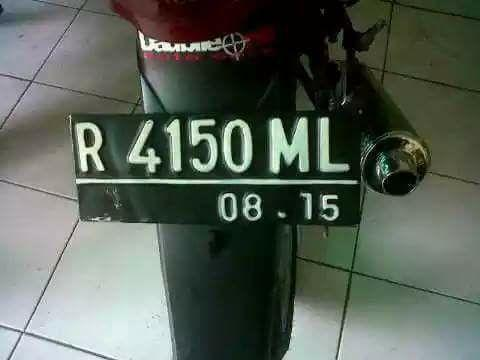clone-license-plate: (69, 114, 360, 227)
